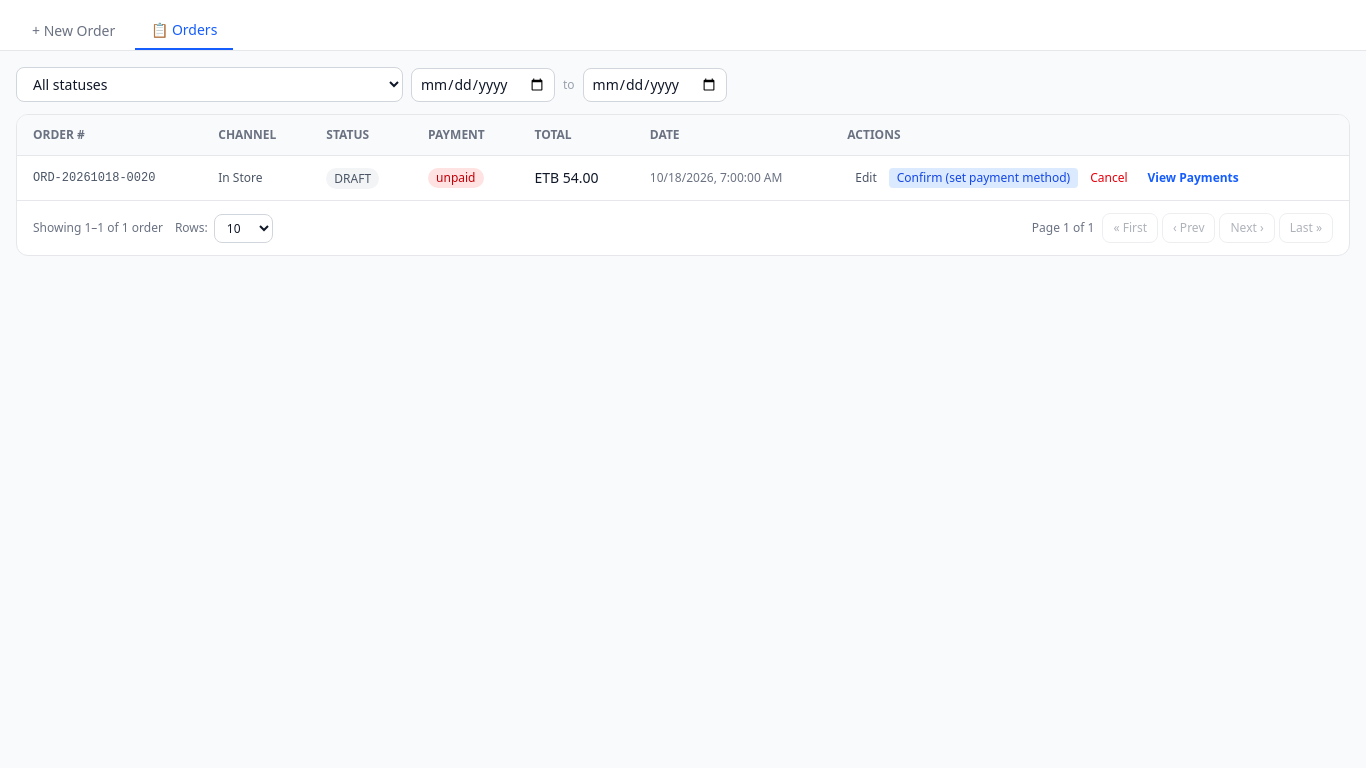
Test: Orders: editing a draft (#174, decision 1a) › opens the draft as it was entered (was: no way to change a draft)
What coordinates should you click on to do the following:
click the button "📋 Orders"
I would click on:
 (184, 31)
Its box is [135,12,233,50].
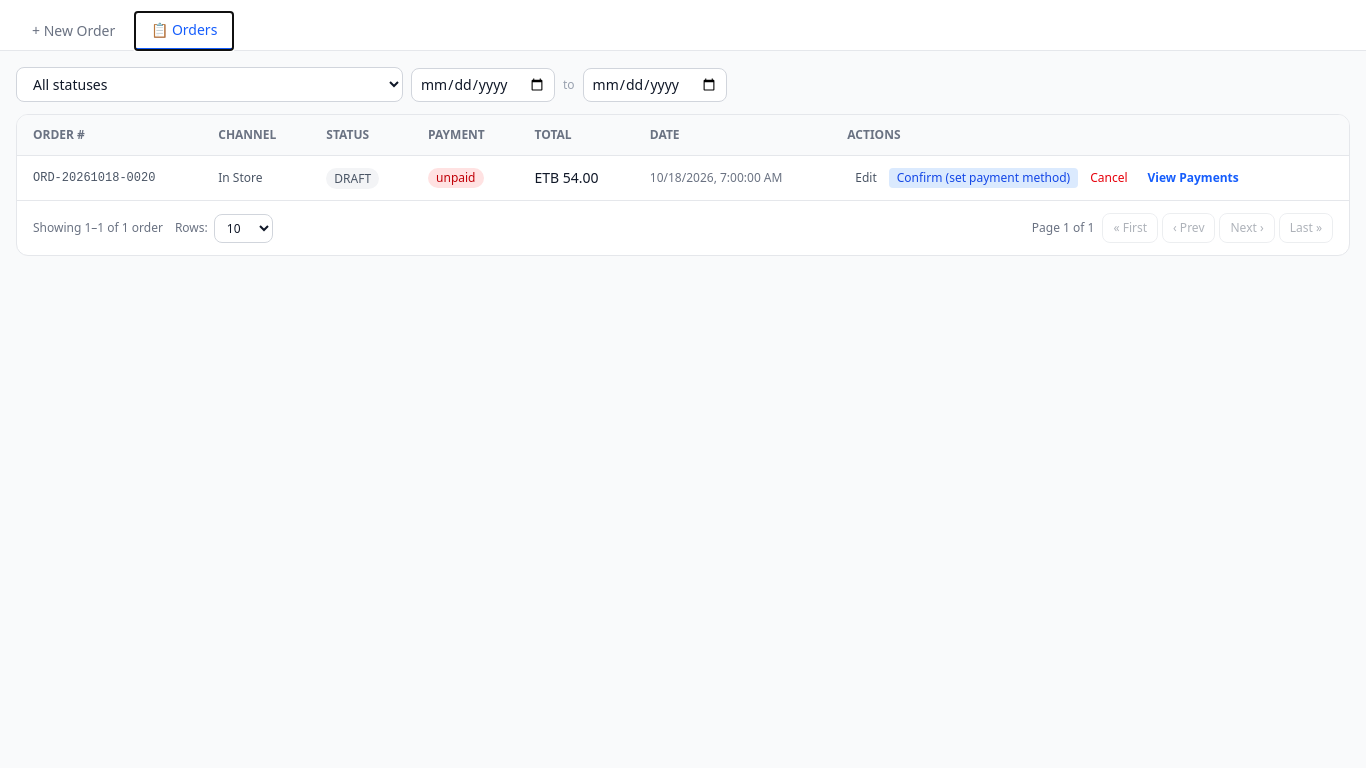
Check: the text "ORD-20261018-0020" is shown, box [17,156,202,200]
What coordinates should you click on to do the following:
click the button "Edit"
I would click on:
 (866, 178)
Its box is [847,168,885,188].
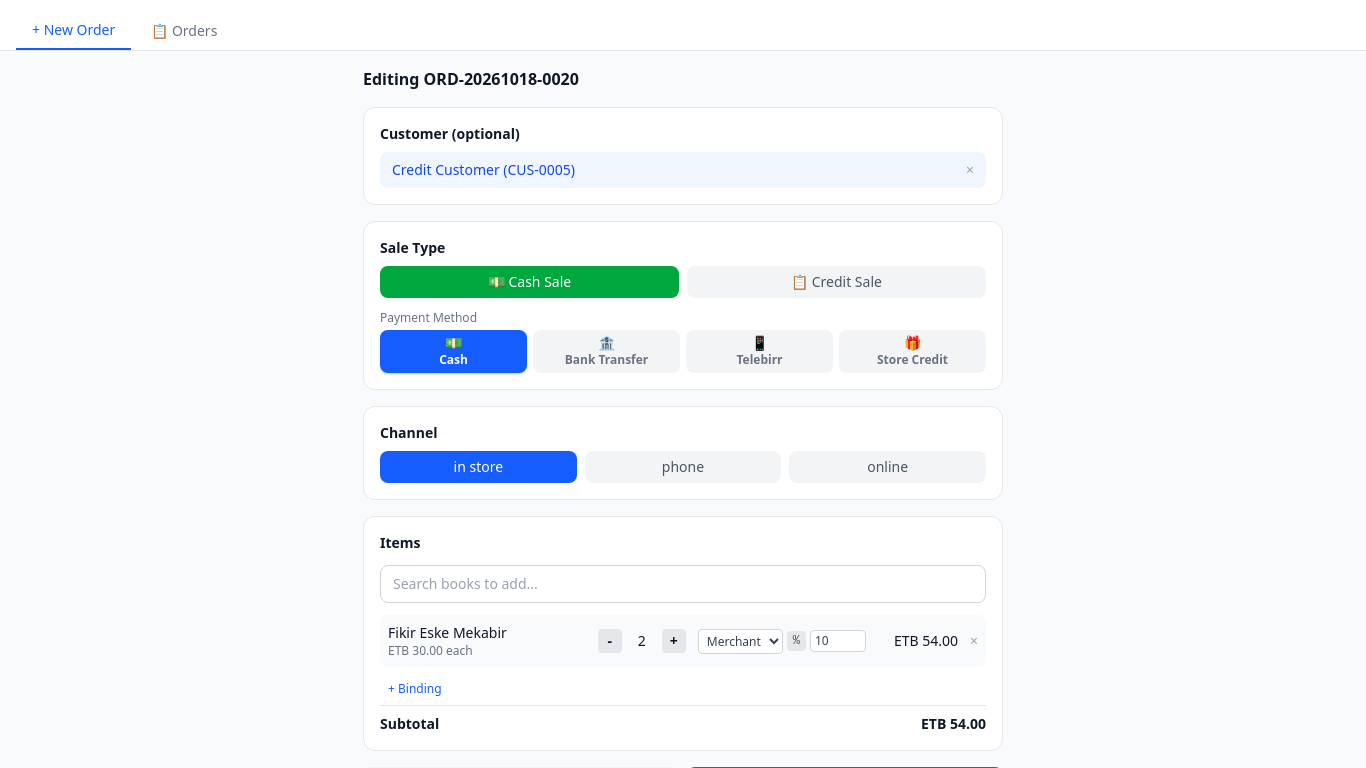
Check: the heading "Editing ORD-20261018-0020" is shown, box [363,68,579,90]
Check: the text "Credit Customer (CUS-0005)" is shown, box [392,160,575,180]
Check: the number field named "Discount on Fikir Eske Mekabir" holds "10", box [810,630,866,652]
